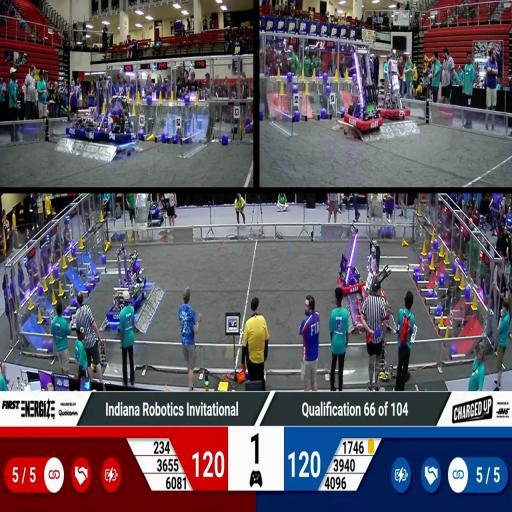robot: (341, 52, 385, 132), (378, 55, 413, 120), (336, 222, 365, 294), (114, 244, 145, 304), (86, 72, 112, 142), (105, 92, 140, 142), (363, 236, 386, 300), (366, 51, 387, 120), (358, 288, 391, 322), (108, 288, 136, 325), (65, 107, 92, 137), (126, 249, 146, 288)
